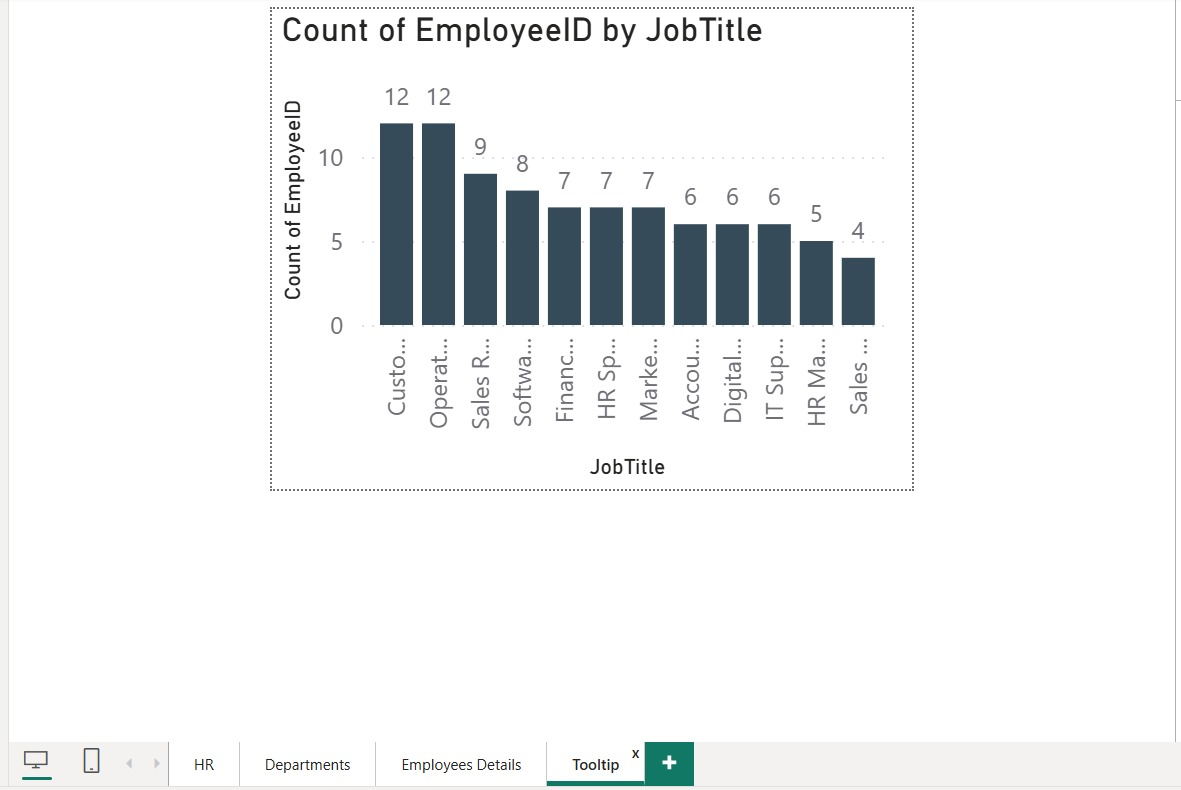

The dashboard page shown, as its layout file describes it:
{"tool":"powerbi","page":{"name":"Tooltip","canvas":[320,240],"ordinal":3},"visuals":[{"type":"columnChart","fields":{"Category":["Jobs.JobTitle"],"Y":["Count(Employees.EmployeeID)"]},"box":[0,0,315.3,240],"z":0}]}

Visuals, with their boxes on the page's 320x240 design canvas (x1, y1, x2, y2). These are canvas units, not pixel positions in the 1181x790 screenshot, which may show the page scaled, cropped or inside an application window:
columnChart - Jobs.JobTitle x Count(Employees.EmployeeID): 0, 0, 315, 240
